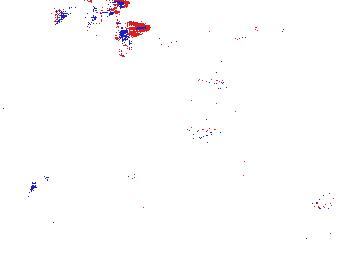X-ray fish: (94, 91, 161, 138), (309, 189, 346, 216)
red belly glassfish: (174, 121, 224, 141), (194, 74, 232, 91)
redtail glassfish: (157, 33, 225, 63), (53, 1, 130, 26), (112, 17, 152, 60), (183, 96, 249, 122), (231, 23, 288, 50)
